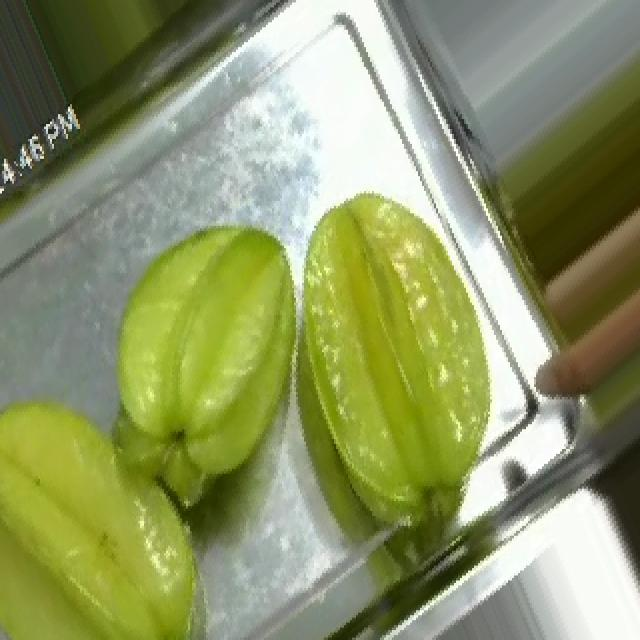fruit: (126, 79, 592, 578), (46, 188, 418, 536), (0, 357, 272, 640), (0, 0, 246, 102)
